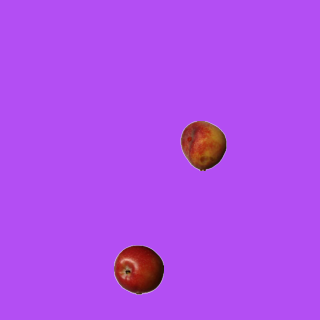Apple Braeburn: (113, 244, 163, 294)
Peach: (178, 120, 228, 170)
